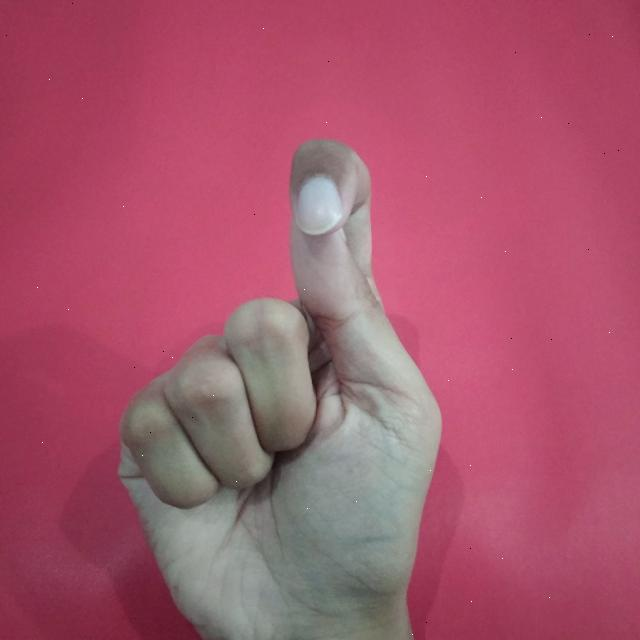T: (111, 132, 449, 640)
